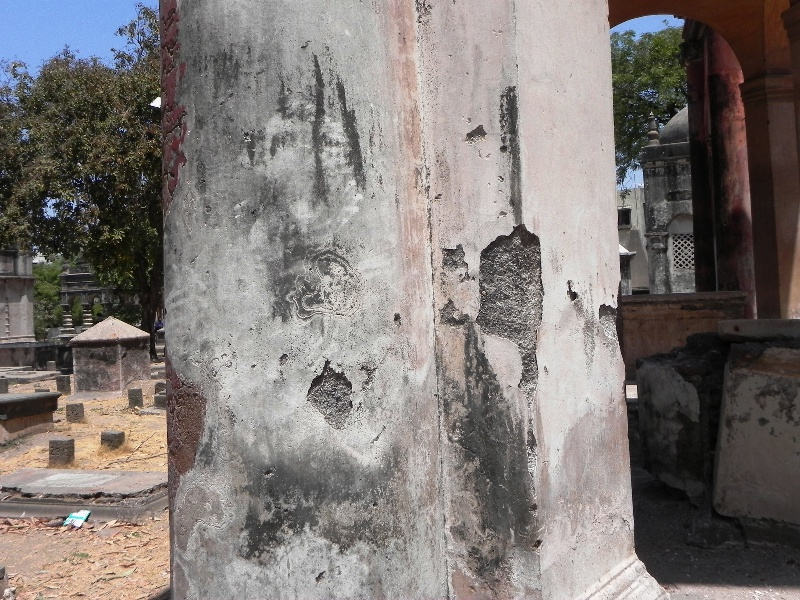Spalling: (474, 218, 549, 407), (300, 355, 359, 444), (595, 267, 625, 361), (437, 235, 470, 277), (386, 305, 406, 333)
